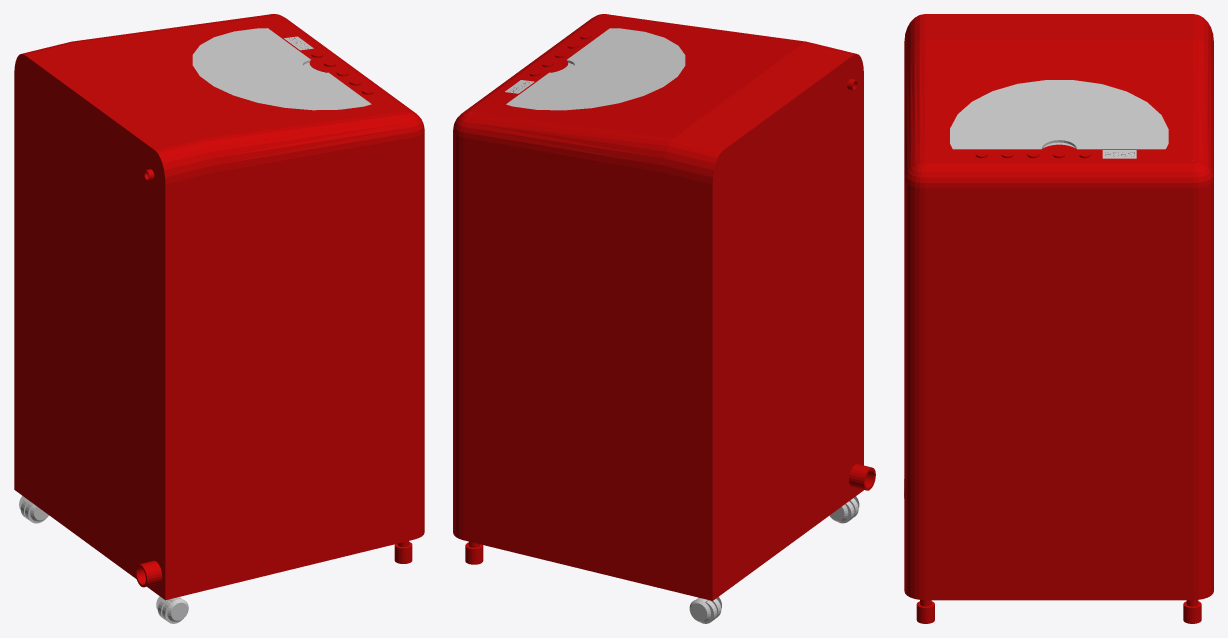
3 renders of one model, left to right at view 1: azimuth 30°, elevation 25°; view 2: azimuth 150°, elevation 25°; view 3: azimuth 270°, elevation 25°, orthographic. The views are drawn at different scales.
Parts seen in each view (by area): view 1: mesh29_mesh29-geometry, mesh15_mesh15-geometry; view 2: mesh29_mesh29-geometry; view 3: mesh29_mesh29-geometry.
Part boxes in pixels (x1,y1,x2,y2): mesh29_mesh29-geometry: (14, 14, 424, 600); mesh15_mesh15-geometry: (156, 596, 188, 623); mesh29_mesh29-geometry: (453, 14, 875, 600); mesh29_mesh29-geometry: (904, 14, 1213, 623).
Size of the model in its own units: 0.4758 by 0.7601 by 0.4425.
